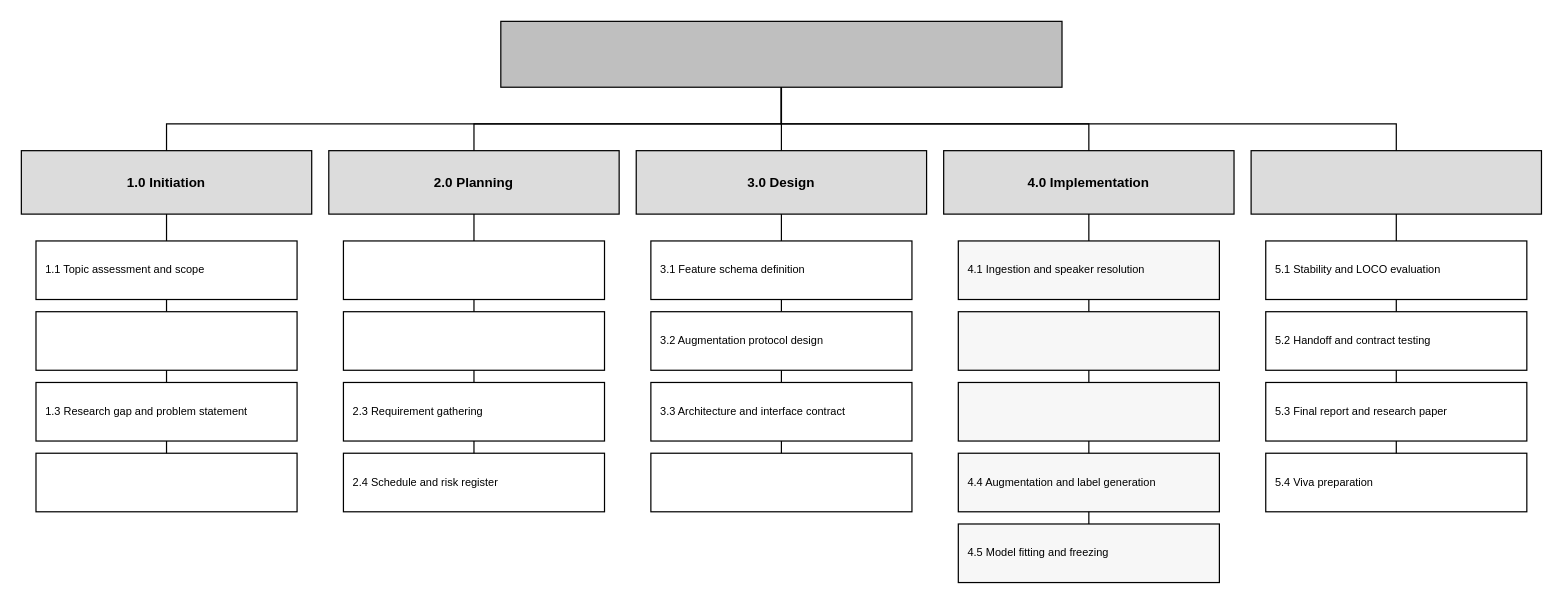
Image size: 1563x604. Some labels were removed from this diagram. The box of each missing label's shape, as (x1, y1, x2, y2) in pixels:
1.2 Literature review: (35, 310, 297, 370)
1.4 Proposal and presentation: (35, 452, 297, 512)
2.1 Corpus survey and licence review: (342, 240, 605, 300)
2.2 Phase 0 shared asset agreement: (342, 310, 605, 370)
3.4 Evaluation and baseline design: (650, 452, 912, 512)
4.2 AVA transcript recovery: (957, 310, 1219, 370)
4.3 Sharding and feature extractors: (957, 381, 1219, 441)
5.0 Finalization: (1250, 149, 1541, 214)
EuqVid-Text · C3 Gender bias detection in video dataset dialogue: (500, 20, 1062, 87)
